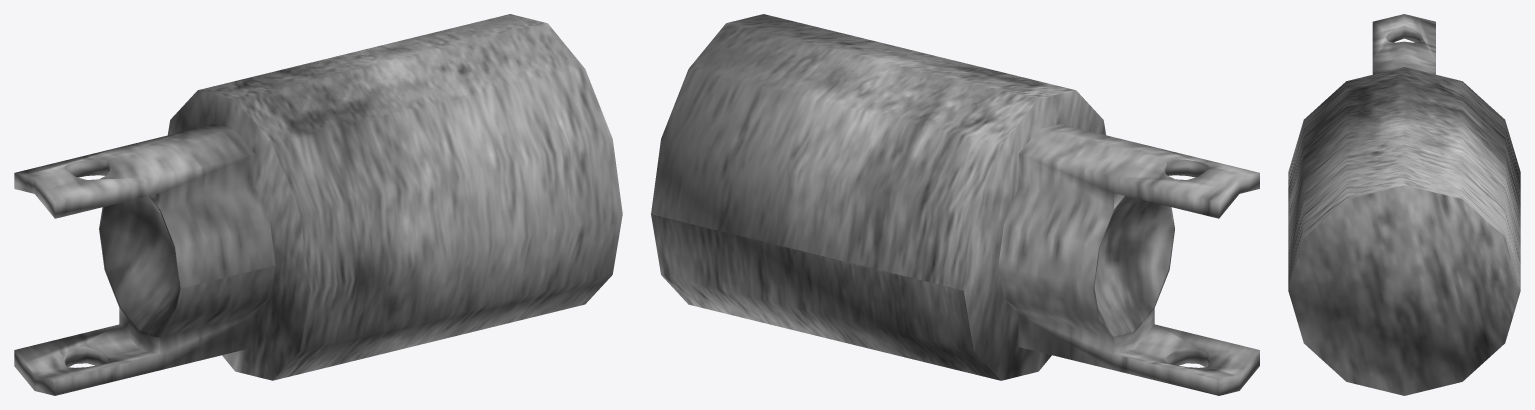
File: WallGunBase.obj
The picture shows the model from 3 angles, left to right: view 1: azimuth 30°, elevation 25°; view 2: azimuth 150°, elevation 25°; view 3: azimuth 270°, elevation 25°; orthographic projection. The views are drawn at different scales.
Parts seen in each view (by area): view 1: Cube.001; view 2: Cube.001; view 3: Cube.001.
Boxes of the visible parts, <box> form: Cube.001: <box>14,14,622,395</box>; Cube.001: <box>651,14,1259,395</box>; Cube.001: <box>1288,14,1520,395</box>.
Bounding box in the file's own units: 7.98 × 4.04 × 4.04.
